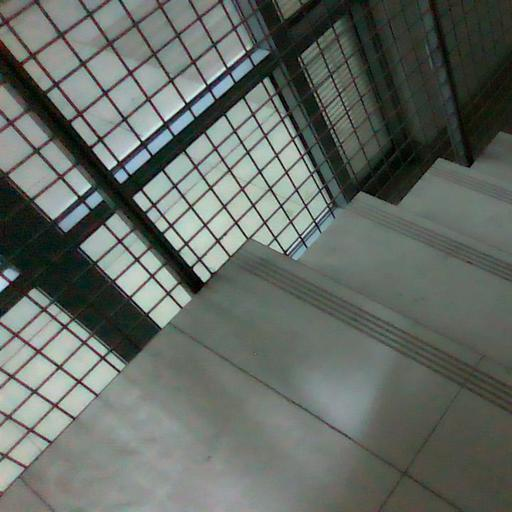stairs: (0, 135, 511, 511)
